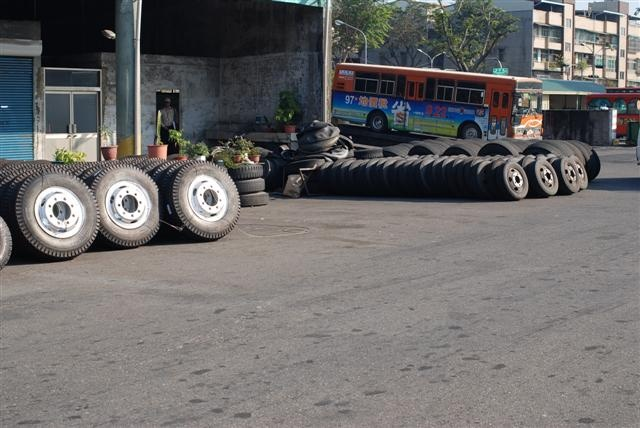tire: (10, 168, 101, 259), (168, 159, 242, 241), (90, 164, 161, 247), (528, 159, 560, 197), (498, 161, 529, 200), (553, 158, 581, 194), (227, 163, 264, 180), (239, 191, 271, 207), (235, 178, 267, 193)
